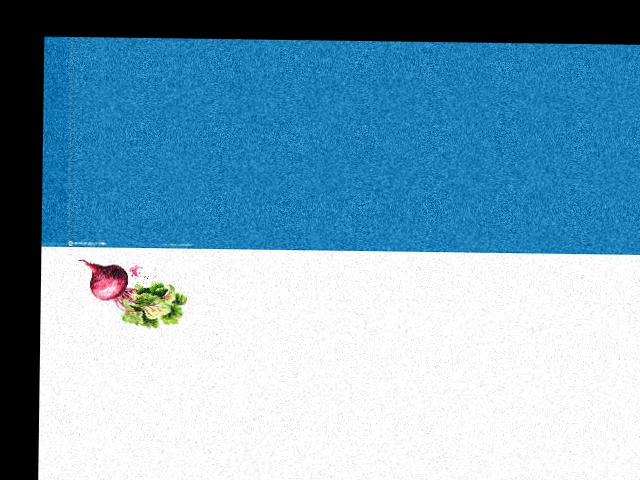beet: (78, 258, 188, 328)
